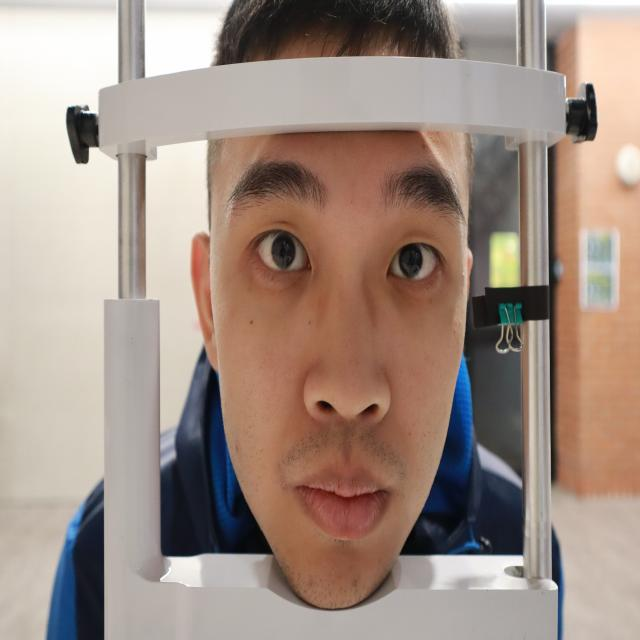eye: (238, 222, 317, 286), (382, 230, 453, 300)
gaze: (269, 232, 298, 272), (397, 241, 424, 280)
